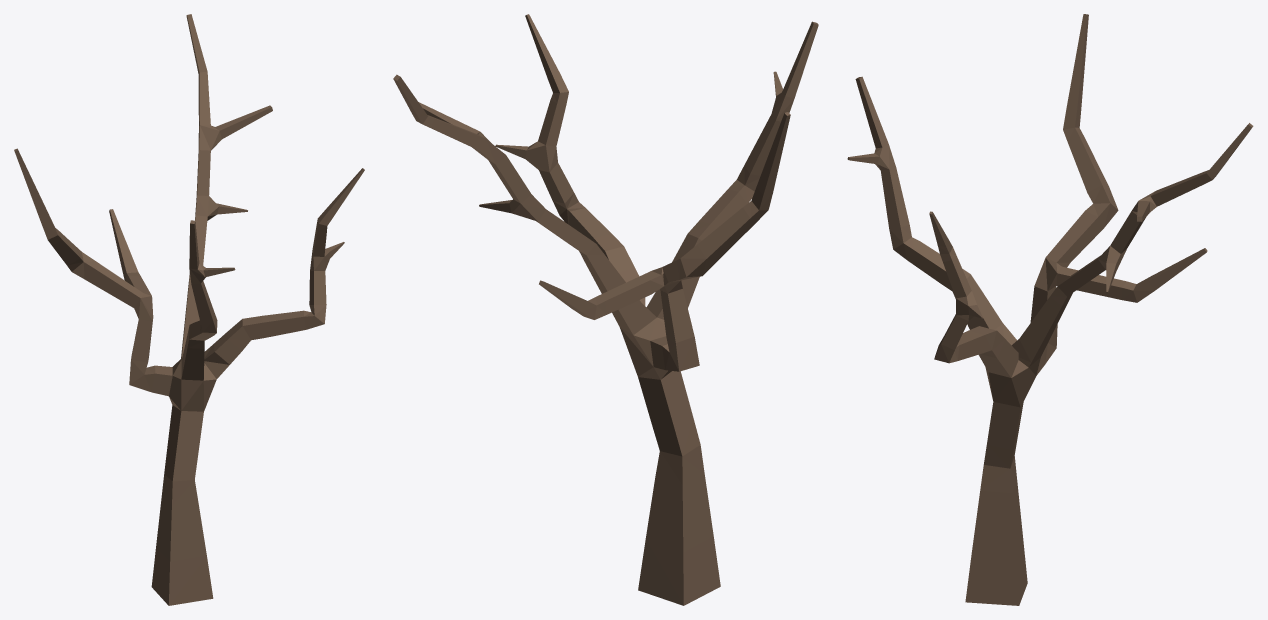
The model's file is dead_tree2.fbx.
3 renders of one model, left to right at view 1: azimuth 30°, elevation 25°; view 2: azimuth 150°, elevation 25°; view 3: azimuth 270°, elevation 25°, orthographic. The views are drawn at different scales.
Parts seen in each view (by area): view 1: dead_tree2_LOD0; view 2: dead_tree2_LOD0; view 3: dead_tree2_LOD0.
Part boxes in pixels (<box>): dead_tree2_LOD0: <box>14,14,364,605</box>; dead_tree2_LOD0: <box>393,14,818,605</box>; dead_tree2_LOD0: <box>847,14,1253,605</box>.
Size of what is drawn, in the model's own units: 338 by 532 by 366.
